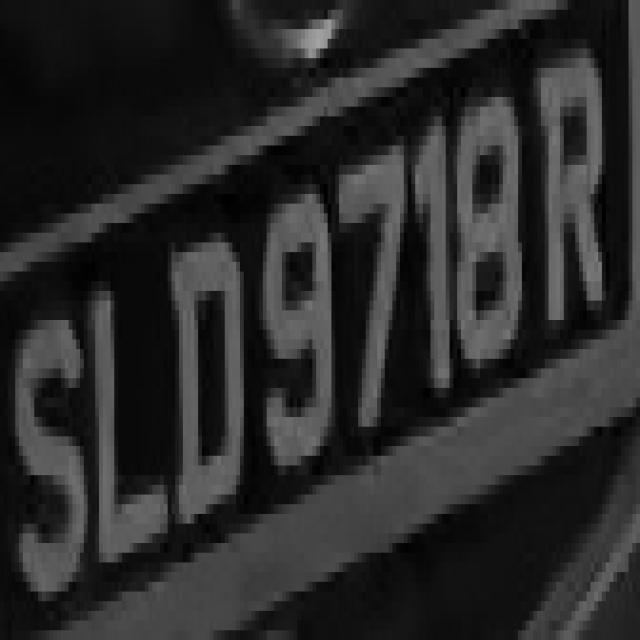1: (404, 97, 457, 427)
7: (328, 117, 408, 476)
8: (438, 68, 530, 407)
9: (252, 175, 351, 504)
D: (152, 213, 252, 553)
L: (84, 252, 168, 592)
R: (529, 29, 621, 369)
S: (0, 300, 84, 620)
